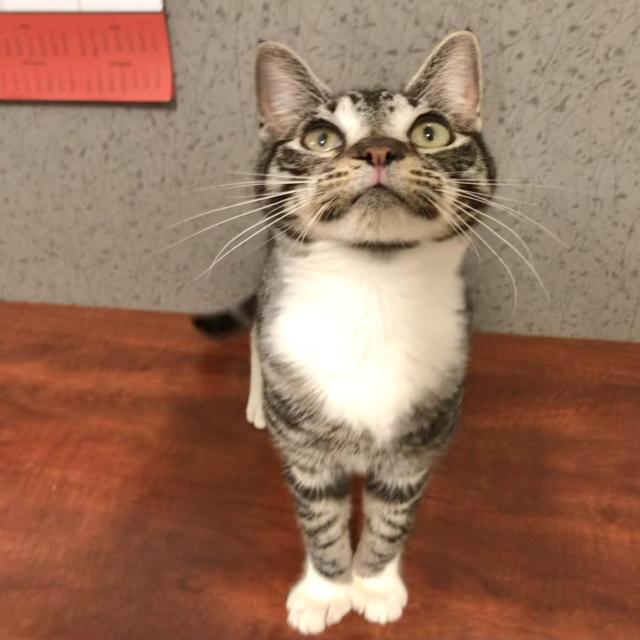american_shorthair_cat: (244, 27, 512, 257)
